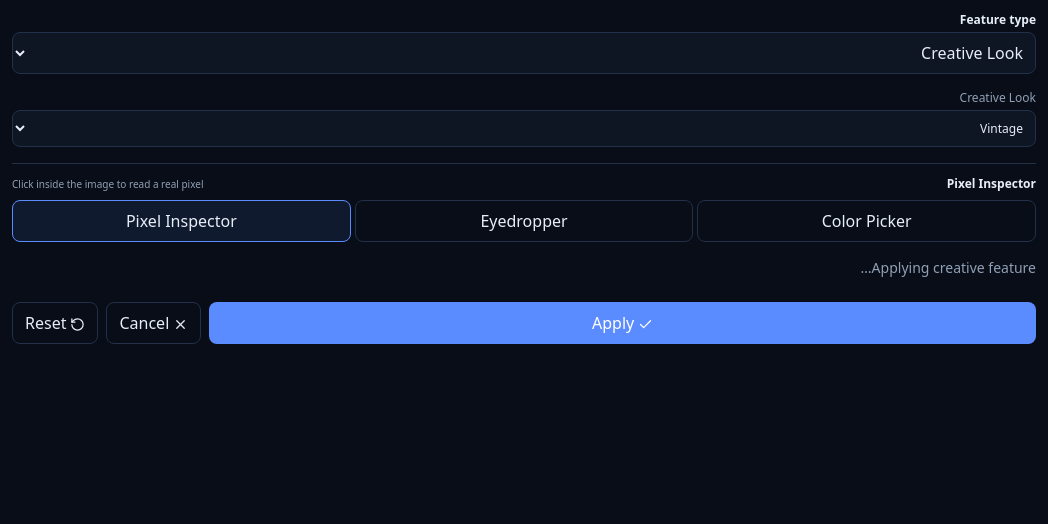
CreativePanel › renders looks and tonal controls from the approved scope
The width and height of the screenshot is (1048, 524).
Expected: the dropdown labelled "Creative Look" is shown, [12,110,1036,147]
Expected: the button "Color Picker" is shown, [697,200,1036,242]
Select "Tonal adjustments" in the dropdown named "Feature type" at (524, 53), box [12,32,1036,74]
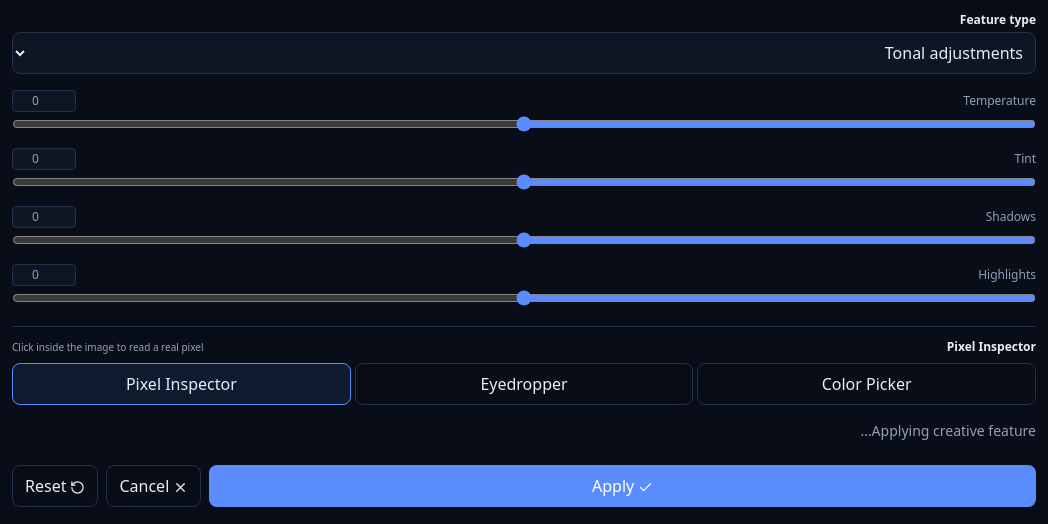
Result: the slider named "Temperature" is shown at [12,116,1036,132]
Result: the slider named "Tint" is shown at [12,174,1036,190]
Result: the slider named "Shadows" is shown at [12,232,1036,248]
